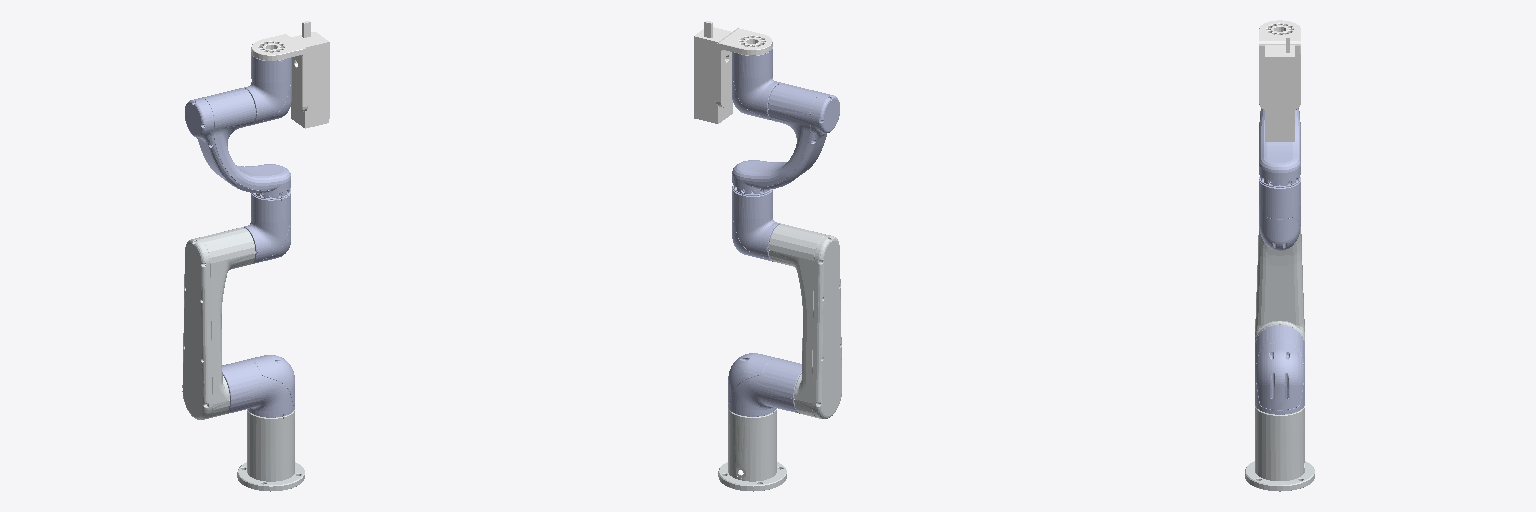
The robot description file, URDF, robot "arm1handle":
<?xml version="1.0" encoding="utf-8"?>
<!-- This URDF was automatically created by SolidWorks to URDF Exporter! Originally created by [author] ([email redacted]) 
     Commit Version: 1.6.0-4-g7f85cfe  Build Version: 1.6.7995.38578
     For more information, please see http://wiki.ros.org/sw_urdf_exporter -->
<robot
  name="arm1handle">
  <link
    name="base_link">
    <inertial>
      <origin
        xyz="-3.55905003586269E-09 -9.58117462985091E-05 0.0398541235730307"
        rpy="0 0 0" />
      <mass
        value="0.217016127356383" />
      <inertia
        ixx="0.000316422940905501"
        ixy="-1.08989028800938E-08"
        ixz="-2.86922349981875E-11"
        iyy="0.000316958752909958"
        iyz="-4.21859576818126E-07"
        izz="0.000200465968239575" />
    </inertial>
    <visual>
      <origin
        xyz="0 0 0"
        rpy="0 0 0" />
      <geometry>
        <mesh
          filename="package://ti5_description/meshes/arm1handle/base_link.STL" />
      </geometry>
      <material
        name="">
        <color
          rgba="0.898039215686275 0.917647058823529 0.929411764705882 1" />
      </material>
    </visual>
    <collision>
      <origin
        xyz="0 0 0"
        rpy="0 0 0" />
      <geometry>
        <mesh
          filename="package://ti5_description/meshes/arm1handle/base_link.STL" />
      </geometry>
    </collision>
  </link>
  <link
    name="A">
    <inertial>
      <origin
        xyz="-0.0296596662123992 2.37245923228401E-06 0.0312139324415483"
        rpy="0 0 0" />
      <mass
        value="0.165312765121891" />
      <inertia
        ixx="0.000143890606012915"
        ixy="1.02702103814788E-09"
        ixz="4.91012878392308E-05"
        iyy="0.000194195923417743"
        iyz="7.92878623693064E-09"
        izz="0.000189705507884915" />
    </inertial>
    <visual>
      <origin
        xyz="0 0 0"
        rpy="0 0 0" />
      <geometry>
        <mesh
          filename="package://ti5_description/meshes/arm1handle/A.STL" />
      </geometry>
      <material
        name="">
        <color
          rgba="0.792156862745098 0.819607843137255 0.933333333333333 1" />
      </material>
    </visual>
    <collision>
      <origin
        xyz="0 0 0"
        rpy="0 0 0" />
      <geometry>
        <mesh
          filename="package://ti5_description/meshes/arm1handle/A.STL" />
      </geometry>
    </collision>
  </link>
  <joint
    name="A"
    type="revolute">
    <origin
      xyz="0 0 0.0955"
      rpy="0 0 0" />
    <parent
      link="base_link" />
    <child
      link="A" />
    <axis
      xyz="0 0 1" />
    <limit
      lower="-3.1415"
      upper="3.1415"
      effort="0"
      velocity="0" />
  </joint>
  <link
    name="B">
    <inertial>
      <origin
        xyz="-0.00938113036406138 8.51498317641692E-06 0.10351259878536"
        rpy="0 0 0" />
      <mass
        value="0.247502018461888" />
      <inertia
        ixx="0.00144854771967562"
        ixy="3.17741176721264E-08"
        ixz="-0.000114612461631551"
        iyy="0.00141704590136593"
        iyz="-4.27780659878018E-08"
        izz="0.000139915959686205" />
    </inertial>
    <visual>
      <origin
        xyz="0 0 0"
        rpy="0 0 0" />
      <geometry>
        <mesh
          filename="package://ti5_description/meshes/arm1handle/B.STL" />
      </geometry>
      <material
        name="">
        <color
          rgba="0.898039215686275 0.917647058823529 0.929411764705882 1" />
      </material>
    </visual>
    <collision>
      <origin
        xyz="0 0 0"
        rpy="0 0 0" />
      <geometry>
        <mesh
          filename="package://ti5_description/meshes/arm1handle/B.STL" />
      </geometry>
    </collision>
  </link>
  <joint
    name="B"
    type="revolute">
    <origin
      xyz="-0.075 0 0.04"
      rpy="0 0 0" />
    <parent
      link="A" />
    <child
      link="B" />
    <axis
      xyz="-1 0 0" />
    <limit
      lower="-1.9"
      upper="1.9"
      effort="0"
      velocity="0" />
  </joint>
  <link
    name="C">
    <inertial>
      <origin
        xyz="0.0293279804734586 -2.98623647391388E-06 0.02550052361872"
        rpy="0 0 0" />
      <mass
        value="0.0921949101574806" />
      <inertia
        ixx="7.54459392715333E-05"
        ixy="-5.80461838264371E-09"
        ixz="-2.10138576351168E-05"
        iyy="8.05921101386402E-05"
        iyz="-1.14285131996804E-08"
        izz="5.59384135190363E-05" />
    </inertial>
    <visual>
      <origin
        xyz="0 0 0"
        rpy="0 0 0" />
      <geometry>
        <mesh
          filename="package://ti5_description/meshes/arm1handle/C.STL" />
      </geometry>
      <material
        name="">
        <color
          rgba="0.792156862745098 0.819607843137255 0.933333333333333 1" />
      </material>
    </visual>
    <collision>
      <origin
        xyz="0 0 0"
        rpy="0 0 0" />
      <geometry>
        <mesh
          filename="package://ti5_description/meshes/arm1handle/C.STL" />
      </geometry>
    </collision>
  </link>
  <joint
    name="C"
    type="revolute">
    <origin
      xyz="0.039 0 0.1915"
      rpy="0 0 0" />
    <parent
      link="B" />
    <child
      link="C" />
    <axis
      xyz="1 0 0" />
    <limit
      lower="-2.8"
      upper="2.8"
      effort="0"
      velocity="0" />
  </joint>
  <link
    name="D">
    <inertial>
      <origin
        xyz="-0.0475996015307715 -3.59804991969471E-07 0.0630372065976885"
        rpy="0 0 0" />
      <mass
        value="0.231121146787802" />
      <inertia
        ixx="0.000490018292723055"
        ixy="-2.22563477728577E-10"
        ixz="0.000221658016911182"
        iyy="0.000653133921762727"
        iyz="-1.43944739122338E-08"
        izz="0.000277649607044593" />
    </inertial>
    <visual>
      <origin
        xyz="0 0 0"
        rpy="0 0 0" />
      <geometry>
        <mesh
          filename="package://ti5_description/meshes/arm1handle/D.STL" />
      </geometry>
      <material
        name="">
        <color
          rgba="0.792156862745098 0.819607843137255 0.933333333333333 1" />
      </material>
    </visual>
    <collision>
      <origin
        xyz="0 0 0"
        rpy="0 0 0" />
      <geometry>
        <mesh
          filename="package://ti5_description/meshes/arm1handle/D.STL" />
      </geometry>
    </collision>
  </link>
  <joint
    name="D"
    type="revolute">
    <origin
      xyz="0.036 0 0.065"
      rpy="0 0 0" />
    <parent
      link="C" />
    <child
      link="D" />
    <axis
      xyz="0 0 1" />
    <limit
      lower="-3.1415"
      upper="3.1415"
      effort="0"
      velocity="0" />
  </joint>
  <link
    name="E">
    <inertial>
      <origin
        xyz="0.0293279802387958 -0.0270005251421657 -2.98593697478644E-06"
        rpy="0 0 0" />
      <mass
        value="0.092194904677049" />
      <inertia
        ixx="7.54459386494826E-05"
        ixy="2.10138576680803E-05"
        ixz="-5.80428111959889E-09"
        iyy="5.59384119409237E-05"
        iyz="1.14282466378385E-08"
        izz="8.05921097640317E-05" />
    </inertial>
    <visual>
      <origin
        xyz="0 0 0"
        rpy="0 0 0" />
      <geometry>
        <mesh
          filename="package://ti5_description/meshes/arm1handle/E.STL" />
      </geometry>
      <material
        name="">
        <color
          rgba="0.792156862745098 0.819607843137255 0.933333333333333 1" />
      </material>
    </visual>
    <collision>
      <origin
        xyz="0 0 0"
        rpy="0 0 0" />
      <geometry>
        <mesh
          filename="package://ti5_description/meshes/arm1handle/E.STL" />
      </geometry>
    </collision>
  </link>
  <joint
    name="E"
    type="revolute">
    <origin
      xyz="-0.0355 0 0.124"
      rpy="-1.57 0 0" />
    <parent
      link="D" />
    <child
      link="E" />
    <axis
      xyz="-1 0 0" />
    <limit
      lower="-3.1415"
      upper="3.1415"
      effort="0"
      velocity="0" />
  </joint>
  <link
    name="F">
    <inertial>
      <origin
        xyz="0.0471200478091451 0.042875420471386 5.22413548603717E-05"
        rpy="0 0 0" />
      <mass
        value="0.188380193802355" />
      <inertia
        ixx="0.000236329319921105"
        ixy="-4.31714535584736E-05"
        ixz="-8.54411206802867E-08"
        iyy="8.71204088275843E-05"
        iyz="5.6956570346738E-07"
        izz="0.00027405741068011" />
    </inertial>
    <visual>
      <origin
        xyz="0 0 0"
        rpy="0 0 0" />
      <geometry>
        <mesh
          filename="package://ti5_description/meshes/arm1handle/F.STL" />
      </geometry>
      <material
        name="">
        <color
          rgba="1 1 1 1" />
      </material>
    </visual>
    <collision>
      <origin
        xyz="0 0 0"
        rpy="0 0 0" />
      <geometry>
        <mesh
          filename="package://ti5_description/meshes/arm1handle/F.STL" />
      </geometry>
    </collision>
  </link>
  <joint
    name="F"
    type="revolute">
    <origin
      xyz="0.036 -0.0655 0"
      rpy="0 0 0" />
    <parent
      link="E" />
    <child
      link="F" />
    <axis
      xyz="0 -1 0" />
    <limit
      lower="-3.1415"
      upper="3.1415"
      effort="0"
      velocity="0" />
  </joint>
</robot>

--- Facts derived from the render (not from the file) ---
3 views of the same robot in one strip: view 1: azimuth 30°, elevation 25°; view 2: azimuth 150°, elevation 25°; view 3: azimuth 270°, elevation 25° (orthographic).
Model arm1handle with 7 links and 6 joints (6 revolute), rooted at base_link, posed all joints at 0.
Visible links, largest first — view 1: B, D, F, base_link, A, C, E; view 2: B, D, F, base_link, A, C, E; view 3: F, base_link, A, B, C, D.
Link boxes in pixels (x1,y1,x2,y2): B: (182,227,255,419); D: (185,88,290,199); F: (251,21,329,128); base_link: (237,409,304,491); A: (222,355,294,417); C: (244,193,290,263); E: (244,52,291,124); B: (768,224,841,418); D: (732,83,839,195); F: (694,21,772,123); base_link: (718,408,786,491); A: (728,353,801,416); C: (732,188,780,261); E: (732,47,780,119); F: (1259,20,1300,141); base_link: (1245,406,1314,491); A: (1255,325,1304,414); B: (1255,226,1304,353); C: (1259,180,1300,250); D: (1259,109,1300,187).
Size in the robot's own frame: 0.1855 by 0.084 by 0.6065 metres.
Meshes: 7 distinct files referenced, 7 mesh visuals loaded (7 binary STL).
